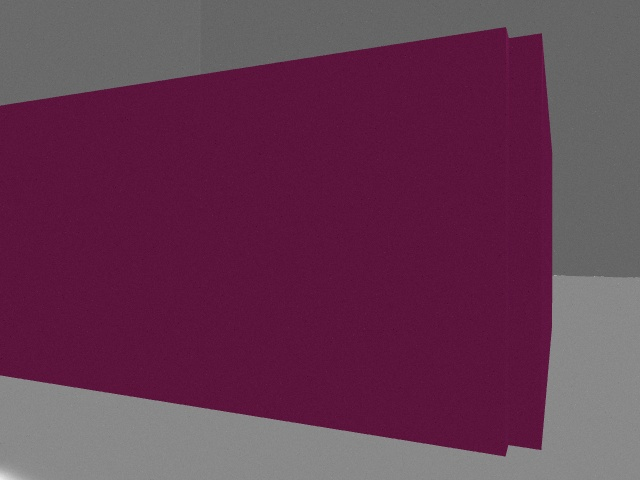red_drop_zone: (0, 27, 552, 456)
